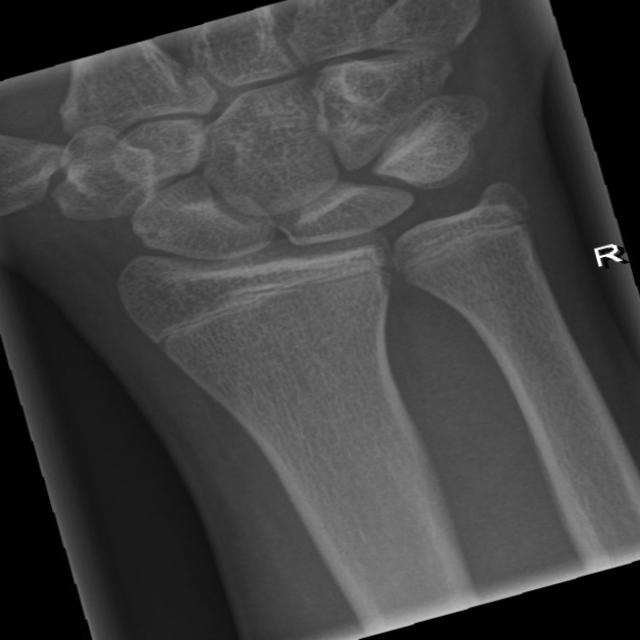fracture: (122, 233, 399, 372), (362, 183, 570, 291)
